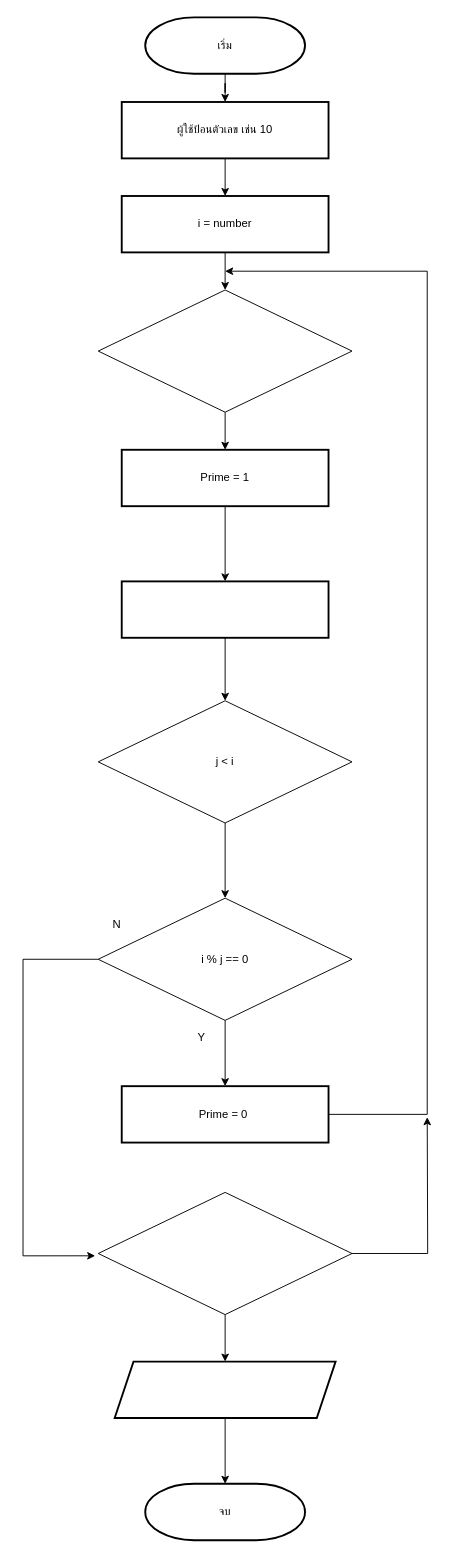
This 452x1557 diagram has some shape labels left out. Each missing label, with the box of its shape:
i >= 2: (97, 289, 352, 412)
J = 2: (120, 580, 329, 638)
Prime == 1: (97, 1191, 352, 1315)
แสดงค่า i: (113, 1360, 336, 1418)
